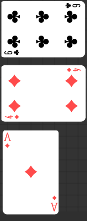4D: (66, 66, 83, 73)
AD: (4, 131, 13, 149), (50, 194, 59, 212)
